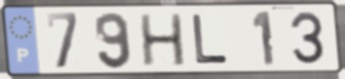1: (250, 8, 278, 68)
3: (288, 9, 327, 67)
7: (45, 11, 81, 72)
9: (93, 10, 135, 71)
H: (138, 12, 189, 68)
L: (190, 12, 230, 66)
